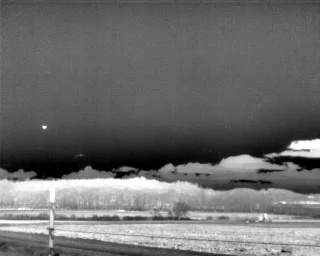DRONE: (39, 121, 50, 133)
